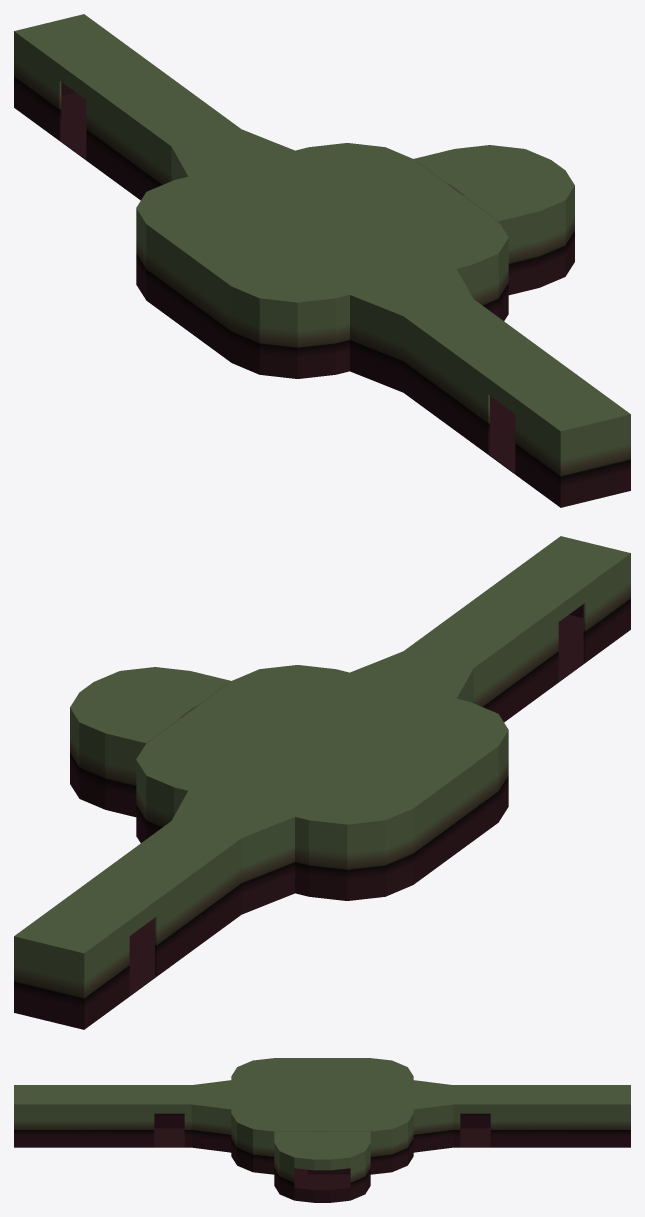
3 views of the same model, one above another, from view 1: azimuth 30°, elevation 25°; view 2: azimuth 150°, elevation 25°; view 3: azimuth 270°, elevation 25° (orthographic). The views are drawn at different scales.
Visible parts, largest first — view 1: base; view 2: base; view 3: base.
Boxes of the visible parts, left/top/right/bottom form: base: left=14, top=14, right=630, bottom=507; base: left=14, top=536, right=630, bottom=1029; base: left=14, top=1058, right=630, bottom=1202.
Size of the model in its own units: 25.25 by 5 by 64.75.
Materials: 1 (1 with a texture image).
